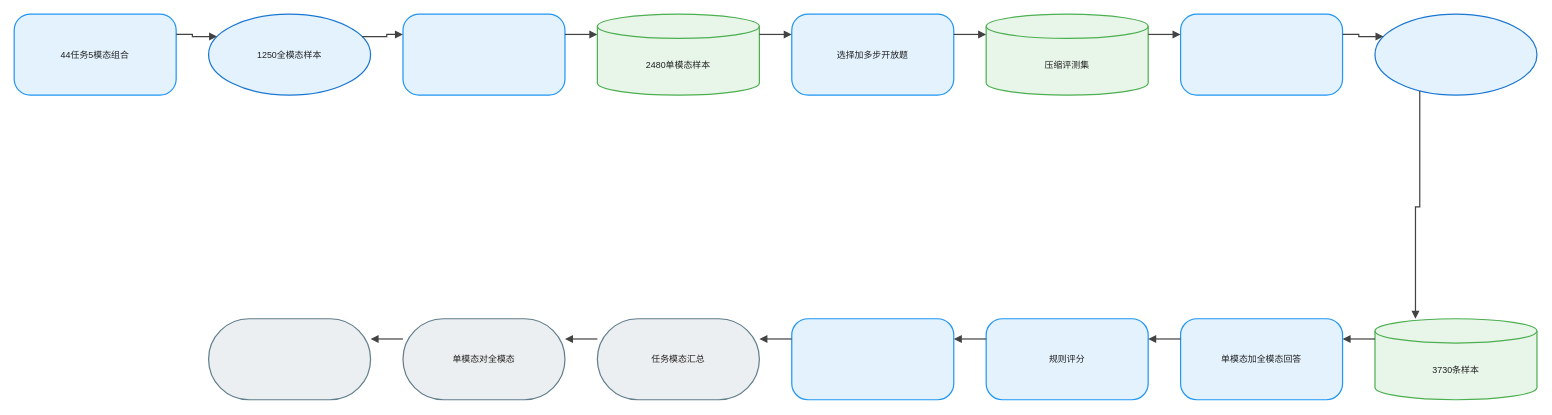
This 1552x415 diagram has some shape labels left out. The centre of each missing label's shape, as x and y in pixels:
95%人工验证: point 1455,54
98%可解性核验: point 483,54
六题型评分器: point 1261,54
组合定律分析: point 289,359
通用评分器: point 872,359
